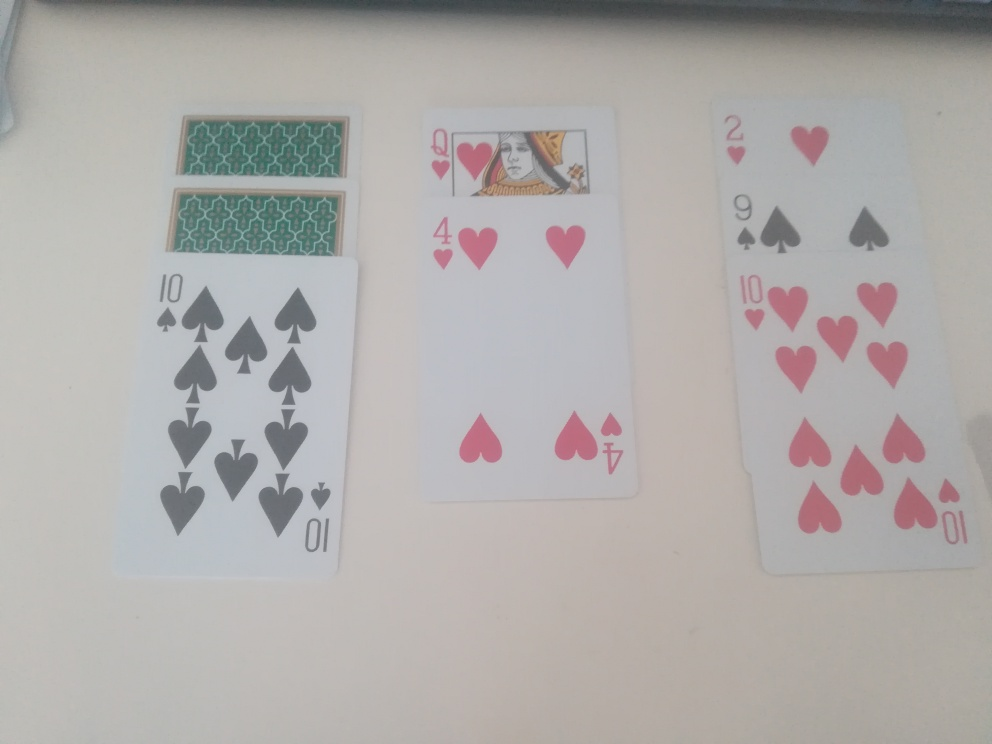10H: (732, 269, 773, 338)
10S: (149, 269, 189, 340)
2H: (721, 108, 752, 174)
4H: (427, 213, 460, 278)
9S: (729, 191, 760, 255)
BACK: (166, 188, 347, 259), (176, 111, 353, 181)
QH: (428, 121, 456, 188)
